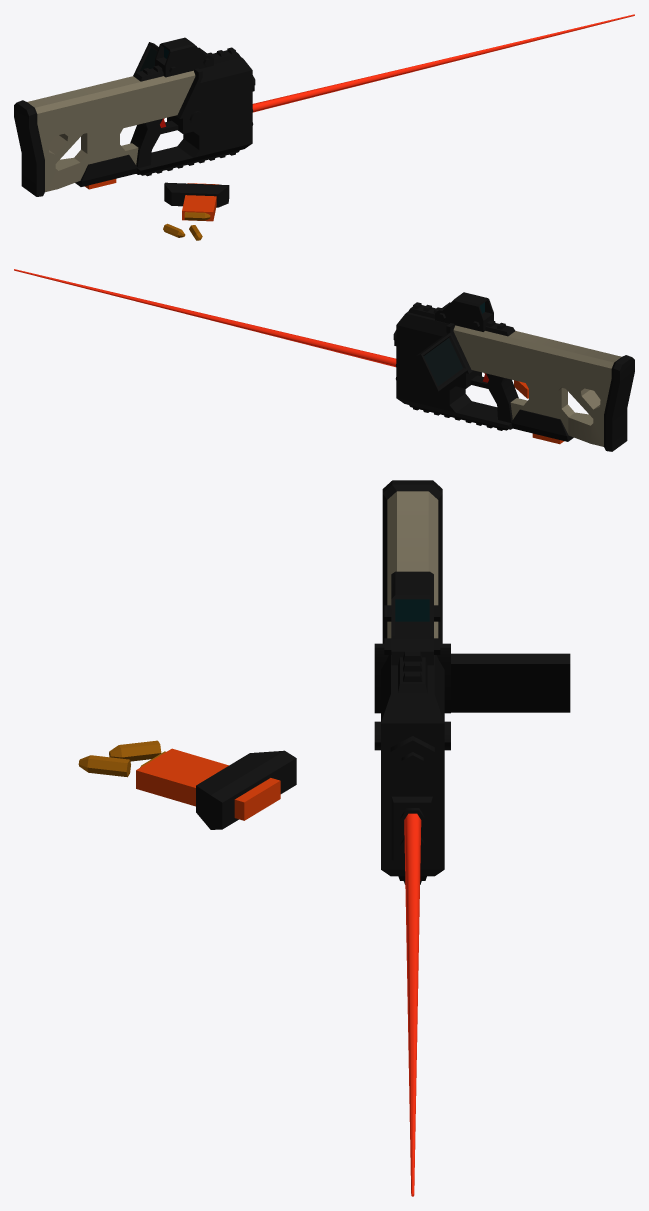
File: Asset_weapon_scifi_X1.fbx
3 views of the same model, one above another, from view 1: azimuth 30°, elevation 25°; view 2: azimuth 150°, elevation 25°; view 3: azimuth 270°, elevation 25° (orthographic). The views are drawn at different scales.
Parts seen in each view (by area): view 1: Line1300, Line1302, Cylinder1186, Line1317, gun_acc_sign_022, Line1299, Line1303, Line1297, Rectangle395, Line1301, Line1304, Box11136; view 2: Line1300, Line1302, Cylinder1186, Line1304, gun_acc_sign_022, Line1299, Line1303, Line1297, Rectangle395, Box11136; view 3: Line1317, Line1302, Line1304, Line1300, gun_acc_sign_022, Cylinder1186, Box11139, Cylinder1177, Line1301.
Part boxes in pixels (x1,y1,x2,y2): Line1300: (14,70,195,196); Line1302: (136,57,252,174); Cylinder1186: (252,14,634,112); Line1317: (164,182,229,221); gun_acc_sign_022: (155,37,213,77); Line1299: (74,128,138,179); Line1303: (75,154,137,189); Line1297: (130,118,162,168); Rectangle395: (133,50,240,175); Line1301: (175,68,202,118); Line1304: (133,42,158,75); Box11136: (143,47,236,176); Line1300: (453,325,634,451); Line1302: (396,312,512,429); Cylinder1186: (14,269,396,367); Line1304: (416,332,468,392); gun_acc_sign_022: (435,292,493,331); Line1299: (510,383,574,433); Line1303: (511,409,573,444); Line1297: (486,373,518,422); Rectangle395: (408,305,515,430); Box11136: (412,302,505,430); Line1317: (136,748,296,829); Line1302: (381,655,444,876); Line1304: (451,653,570,712); Line1300: (382,480,442,643); gun_acc_sign_022: (384,571,440,665); Cylinder1186: (404,813,421,1196); Box11139: (391,796,432,860); Cylinder1177: (390,736,434,786); Line1301: (374,643,450,713).
Size of the model in its own units: 222 by 42.75 by 77.14.
